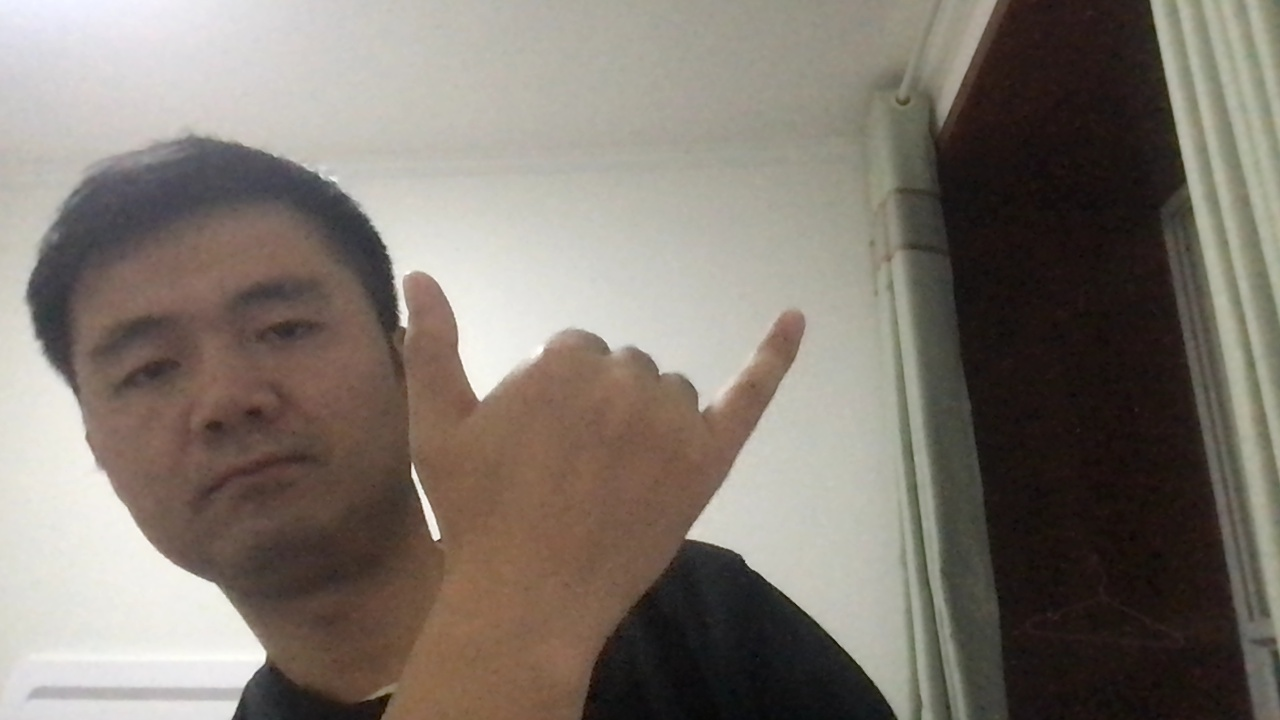iloveyou: (386, 240, 839, 595)
